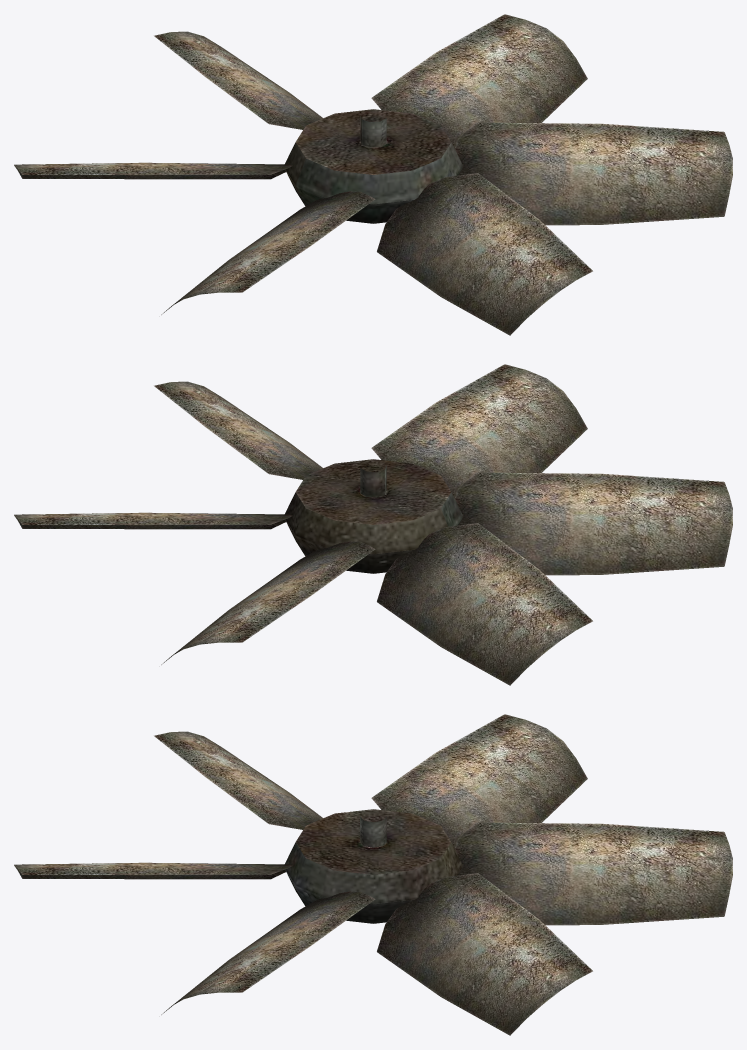
File: fanoff.glb
3 renders of one model, top to bottom at view 1: azimuth 30°, elevation 25°; view 2: azimuth 150°, elevation 25°; view 3: azimuth 270°, elevation 25°, orthographic.
Parts seen in each view (by area): view 1: 0_fan; view 2: 0_fan; view 3: 0_fan.
Boxes of the visible parts, box(x1,y1,x2,y2) form: 0_fan: box(14, 14, 732, 335); 0_fan: box(14, 364, 732, 685); 0_fan: box(14, 714, 732, 1035).
Bounding box in the file's own units: 1.24 × 0.1814 × 1.36.
Materials: 1 (1 with a texture image).
